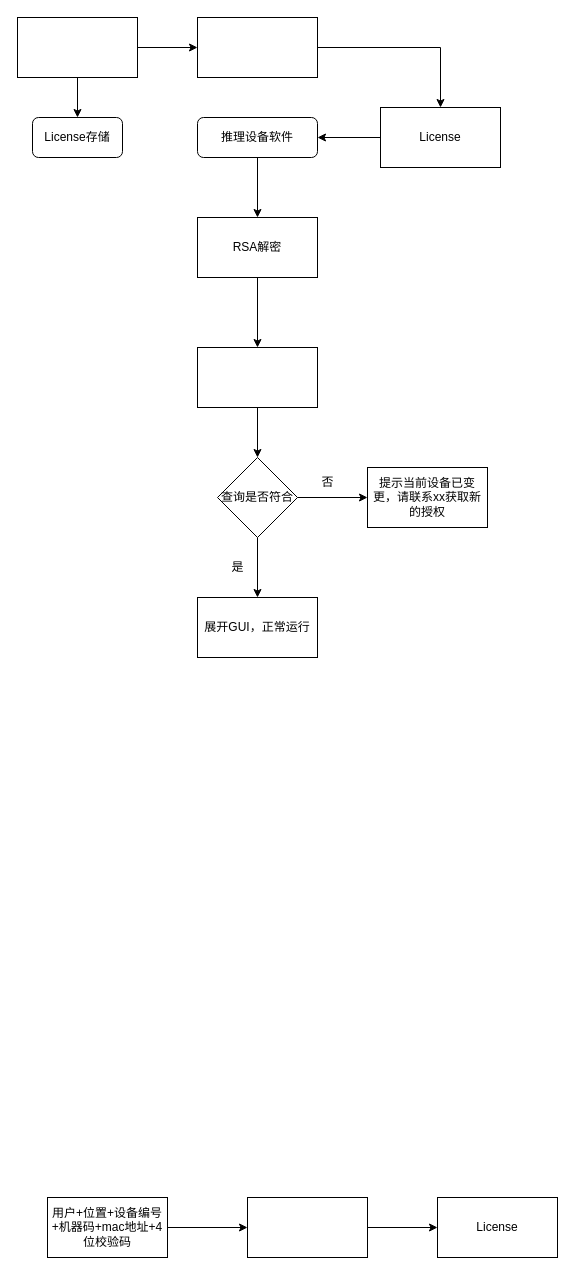
The diagram is 575 pixels wide and 1275 high, and some of its shapes have lost their labels. Each missing label, with the box of its shape:
RSA加密: (246, 1196, 368, 1258)
密钥生成软件: (16, 16, 138, 78)
推理主机: (196, 16, 318, 78)
查询当前设备机器码+mac地址: (196, 346, 318, 408)
